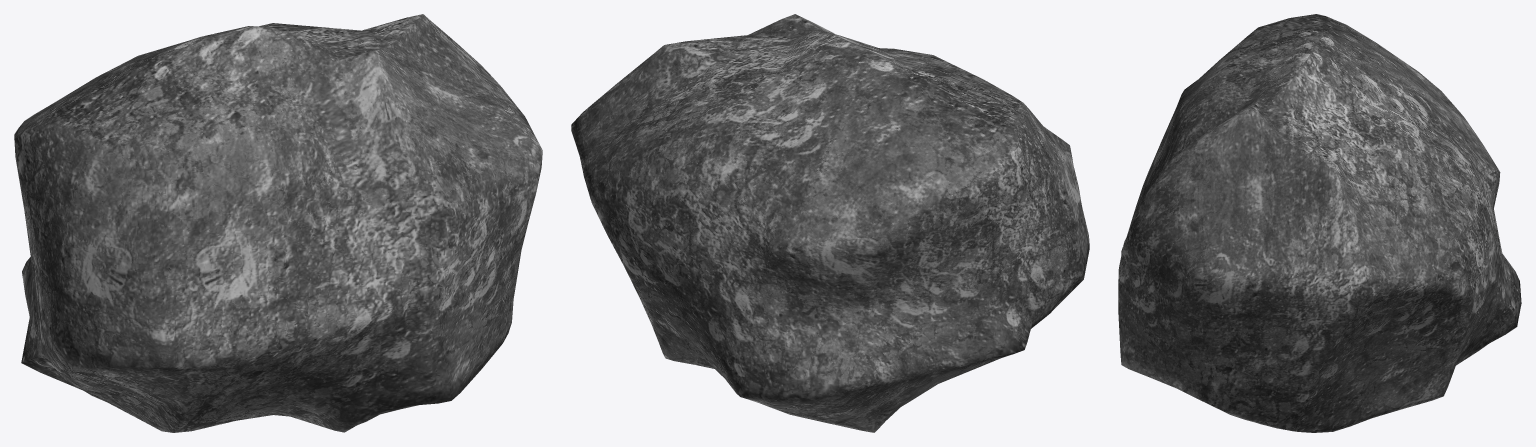
Rendered from Asteroid_Small_1.obj.
3 views of the same model, side by side, from view 1: azimuth 30°, elevation 25°; view 2: azimuth 150°, elevation 25°; view 3: azimuth 270°, elevation 25° (orthographic). The views are drawn at different scales.
Parts seen in each view (by area): view 1: Aster_Small_1__Cube.017; view 2: Aster_Small_1__Cube.017; view 3: Aster_Small_1__Cube.017.
Part boxes in pixels (x1,y1,x2,y2): Aster_Small_1__Cube.017: (14,14,542,432); Aster_Small_1__Cube.017: (571,14,1089,432); Aster_Small_1__Cube.017: (1118,14,1521,432).
Bounding box in the file's own units: 1.68 × 1.24 × 1.34.
Materials: 1 (1 with a texture image).
